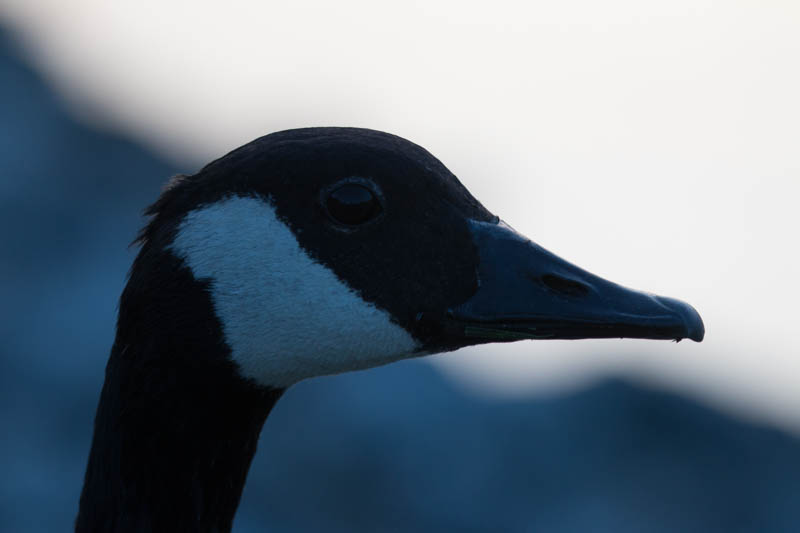goose-head: (119, 126, 704, 386)
